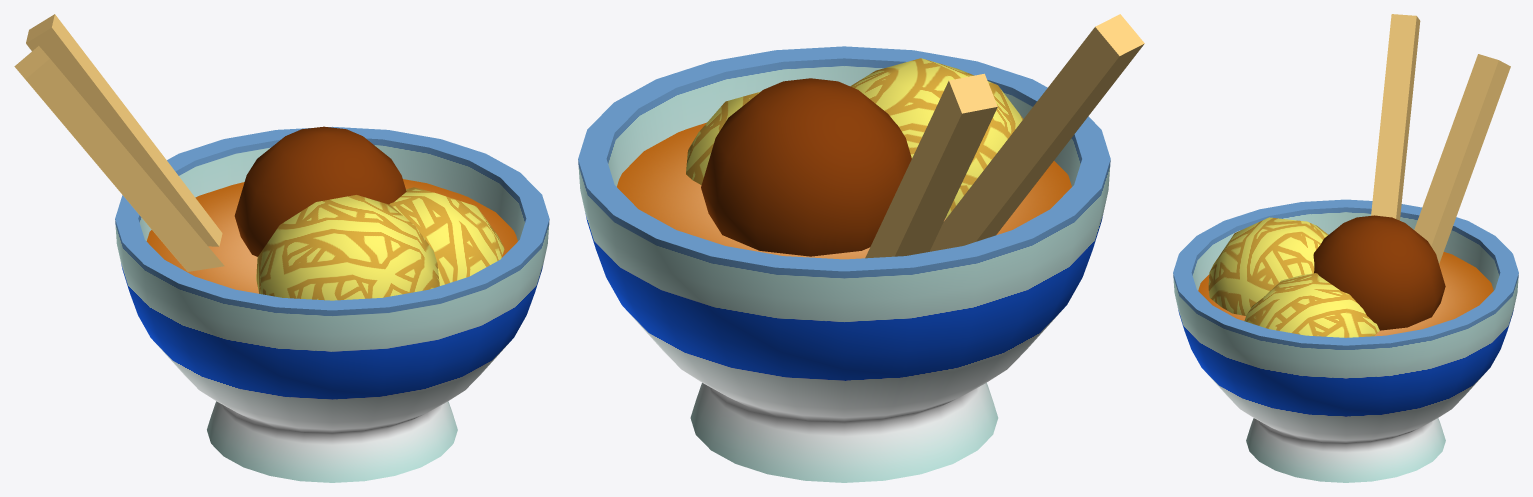
File: noodles2.fbx
3 renders of one model, left to right at view 1: azimuth 30°, elevation 25°; view 2: azimuth 150°, elevation 25°; view 3: azimuth 270°, elevation 25°, orthographic. The views are drawn at different scales.
Visible parts, largest first — view 1: Sphere_2, Sphere_4, Sphere_3, Cube_1, Cube, Sphere, Disc; view 2: Sphere_2, Sphere_3, Cube_1, Cube, Disc, Sphere_4, Sphere; view 3: Sphere_2, Sphere_3, Sphere_4, Cube, Cube_1, Sphere, Disc.
Part boxes in pixels (x1=…): Sphere_2: x1=115, y1=126, x2=549, y2=482; Sphere_4: x1=256, y1=195, x2=439, y2=300; Sphere_3: x1=234, y1=126, x2=406, y2=256; Cube_1: x1=14, y1=46, x2=224, y2=271; Cube: x1=26, y1=14, x2=222, y2=246; Sphere: x1=389, y1=187, x2=504, y2=285; Disc: x1=146, y1=179, x2=517, y2=293; Sphere_2: x1=578, y1=46, x2=1110, y2=482; Sphere_3: x1=701, y1=78, x2=911, y2=256; Cube_1: x1=929, y1=14, x2=1144, y2=251; Cube: x1=865, y1=73, x2=997, y2=258; Disc: x1=617, y1=122, x2=1071, y2=259; Sphere_4: x1=850, y1=58, x2=1023, y2=218; Sphere: x1=686, y1=91, x2=760, y2=184; Sphere_2: x1=1173, y1=199, x2=1518, y2=482; Sphere_3: x1=1313, y1=215, x2=1445, y2=330; Sphere_4: x1=1208, y1=217, x2=1328, y2=315; Cube: x1=1414, y1=54, x2=1510, y2=263; Cube_1: x1=1371, y1=14, x2=1420, y2=220; Sphere: x1=1244, y1=273, x2=1379, y2=337; Disc: x1=1198, y1=252, x2=1493, y2=336.
Size of the model in its own units: 236 by 201 by 192.
Materials: 2 (2 with a texture image).
